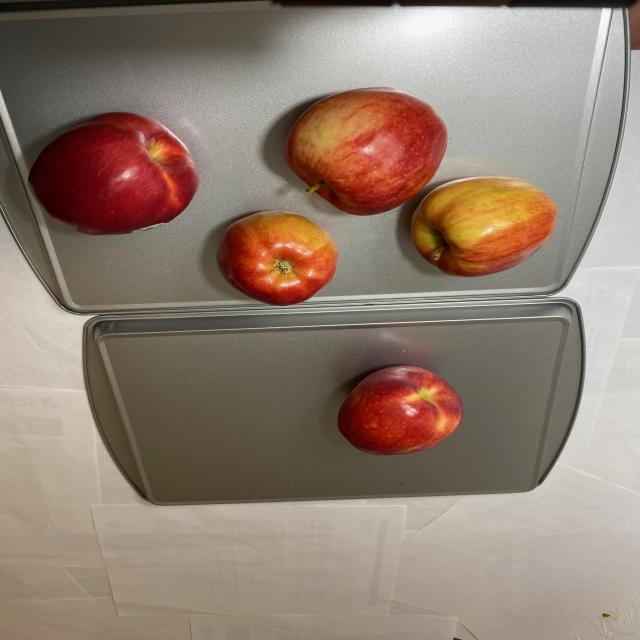apple: (21, 87, 562, 302), (332, 363, 469, 458)
